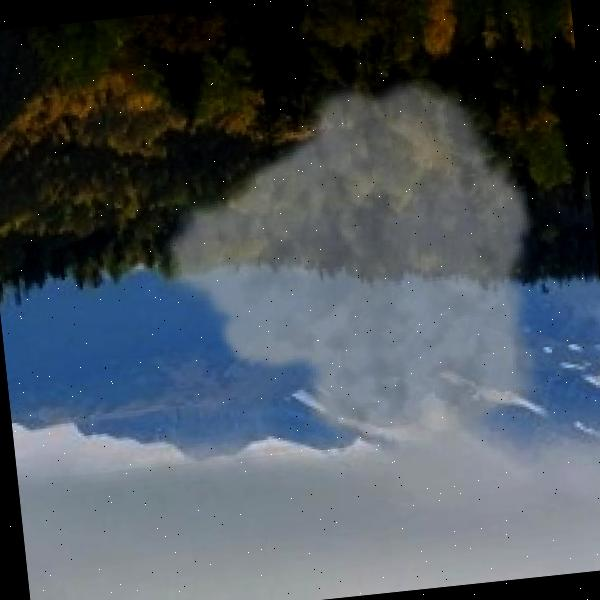smoke: (139, 53, 560, 474)
